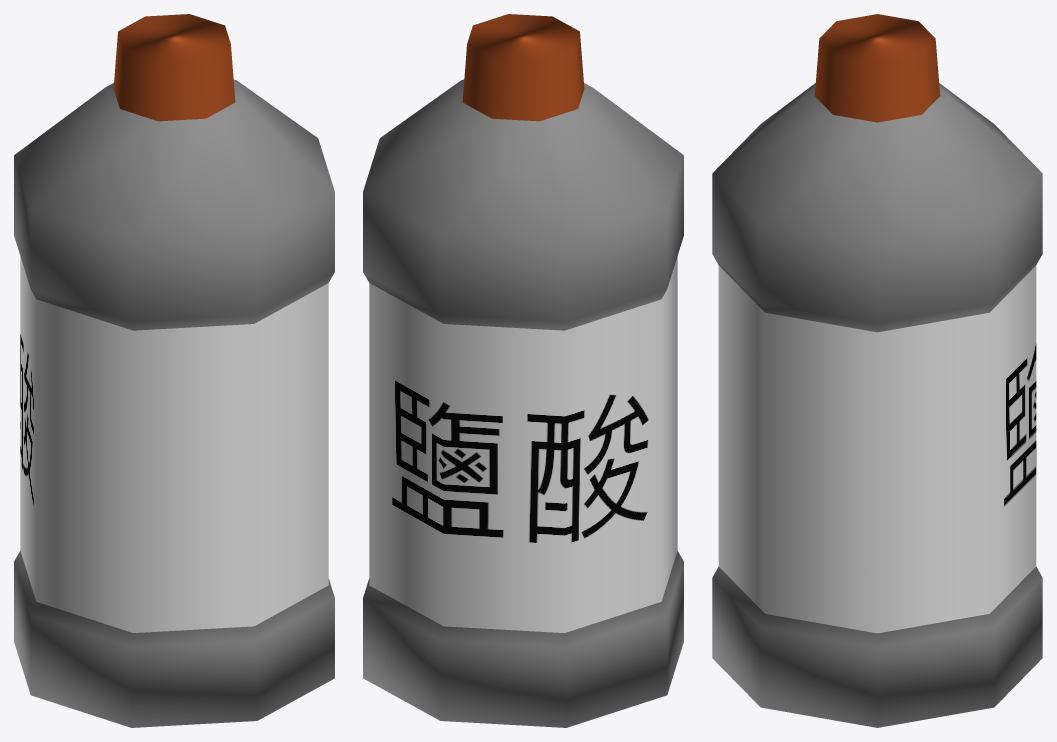
The model's file is hydrochloric acid.fbx.
3 renders of one model, left to right at view 1: azimuth 30°, elevation 25°; view 2: azimuth 150°, elevation 25°; view 3: azimuth 270°, elevation 25°, orthographic.
Visible parts, largest first — view 1: BottlePlastic2.2; view 2: BottlePlastic2.2; view 3: BottlePlastic2.2.
Boxes of the visible parts, x1=… form: BottlePlastic2.2: x1=14, y1=14, x2=334, y2=727; BottlePlastic2.2: x1=363, y1=14, x2=683, y2=727; BottlePlastic2.2: x1=712, y1=14, x2=1042, y2=727.
Bounding box in the file's own units: 8.84 × 18.28 × 8.84.
3 materials, 1 textured.
